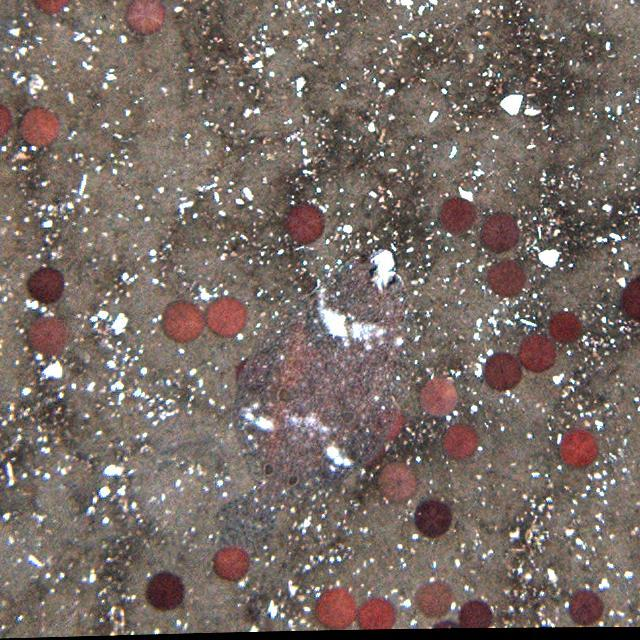flatfish: (209, 255, 427, 562)
